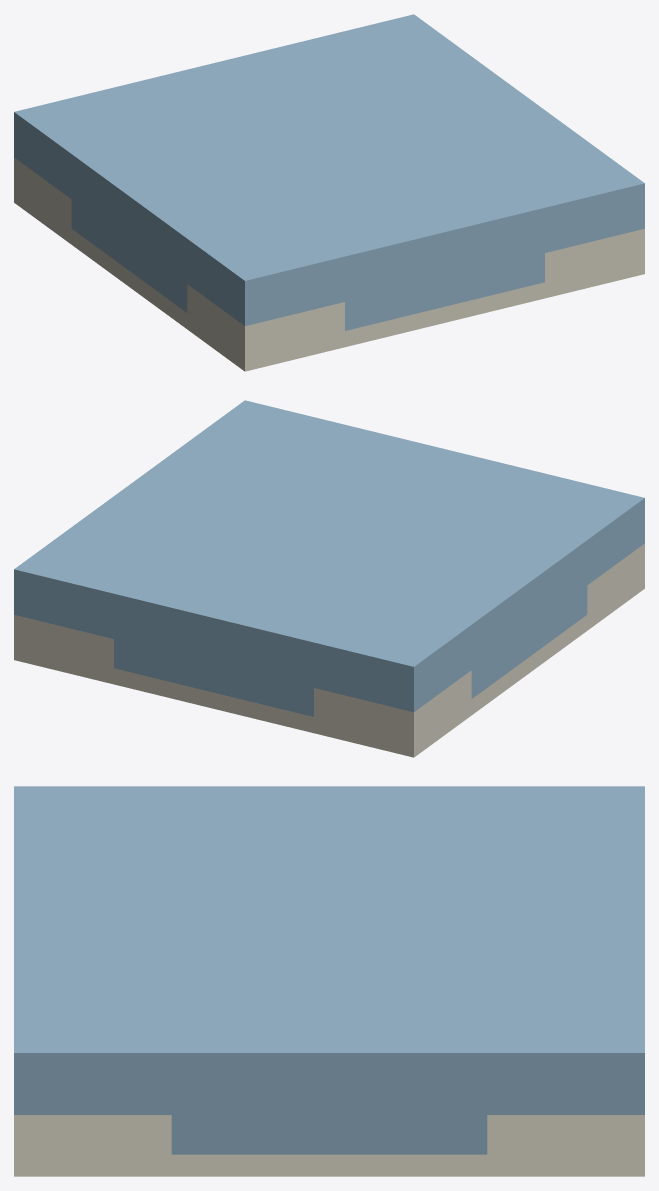
Rendered from towerSquareMidColor.glb.
The picture shows the model from 3 angles, top to bottom: view 1: azimuth 30°, elevation 25°; view 2: azimuth 150°, elevation 25°; view 3: azimuth 270°, elevation 25°; orthographic projection. The views are drawn at different scales.
Visible parts, largest first — view 1: towerSquareMidColor; view 2: towerSquareMidColor; view 3: towerSquareMidColor.
Part boxes in pixels (box(x1,y1,x2,y2)): towerSquareMidColor: box(14, 14, 644, 371); towerSquareMidColor: box(14, 400, 644, 757); towerSquareMidColor: box(14, 786, 644, 1176).
Bounding box in the file's own units: 9.3 × 2.02 × 9.3.
